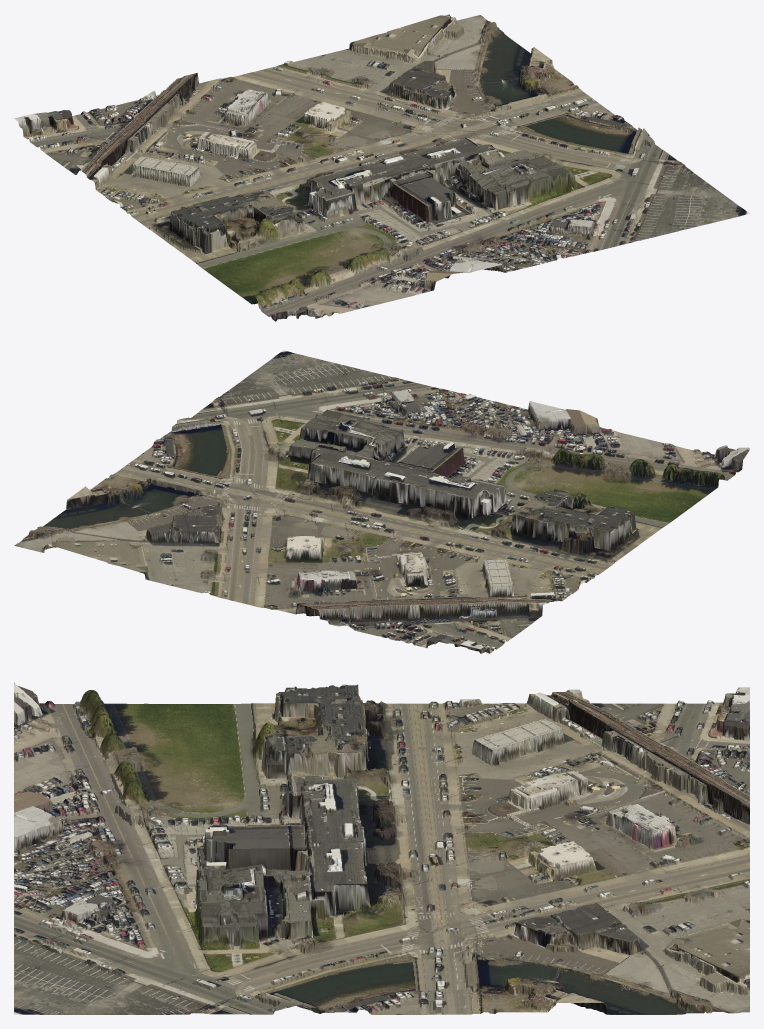
The model's file is gamus_philadelphia_mesh.glb.
3 renders of one model, top to bottom at view 1: azimuth 30°, elevation 25°; view 2: azimuth 150°, elevation 25°; view 3: azimuth 270°, elevation 25°, orthographic. The views are drawn at different scales.
Parts seen in each view (by area): view 1: terrain; view 2: terrain; view 3: terrain.
Boxes of the visible parts, <box> form: terrain: <box>14,14,749,321</box>; terrain: <box>14,350,749,653</box>; terrain: <box>14,682,749,1014</box>.
Size of the model in its own units: 338 by 16.62 by 338.
Materials: 1 (1 with a texture image).
